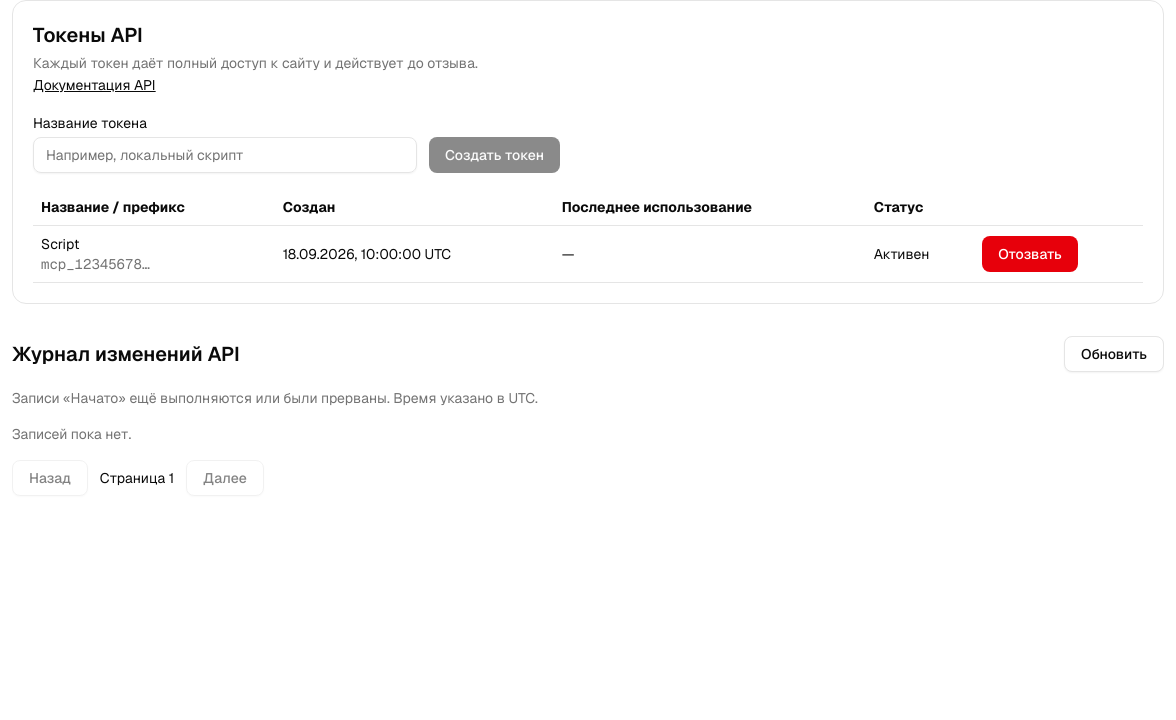
it: API tab › keeps an active token when revocation fails and shows a recoverable error
Click the button with aria-label "Отозвать токен Script": (1030,254) [982, 236, 1078, 272]
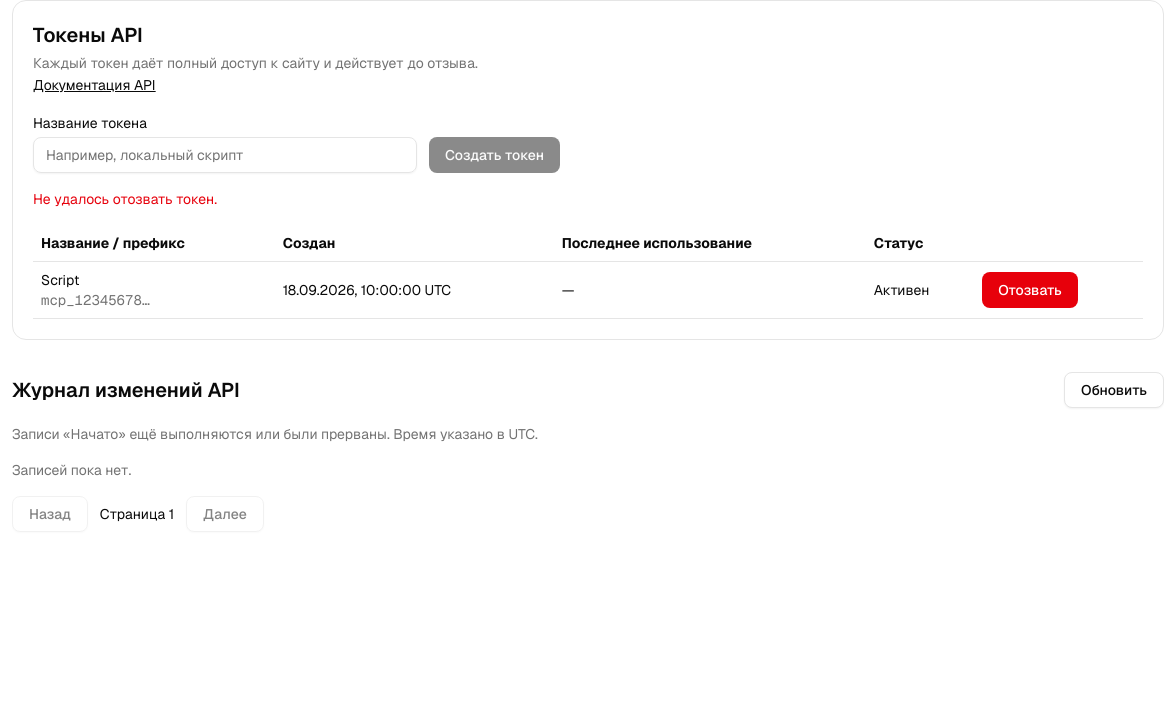
Expected: the text "Активен" is shown, [866, 262, 974, 318]
Expected: the message reads "Не удалось отозвать токен.", [33, 190, 217, 208]
